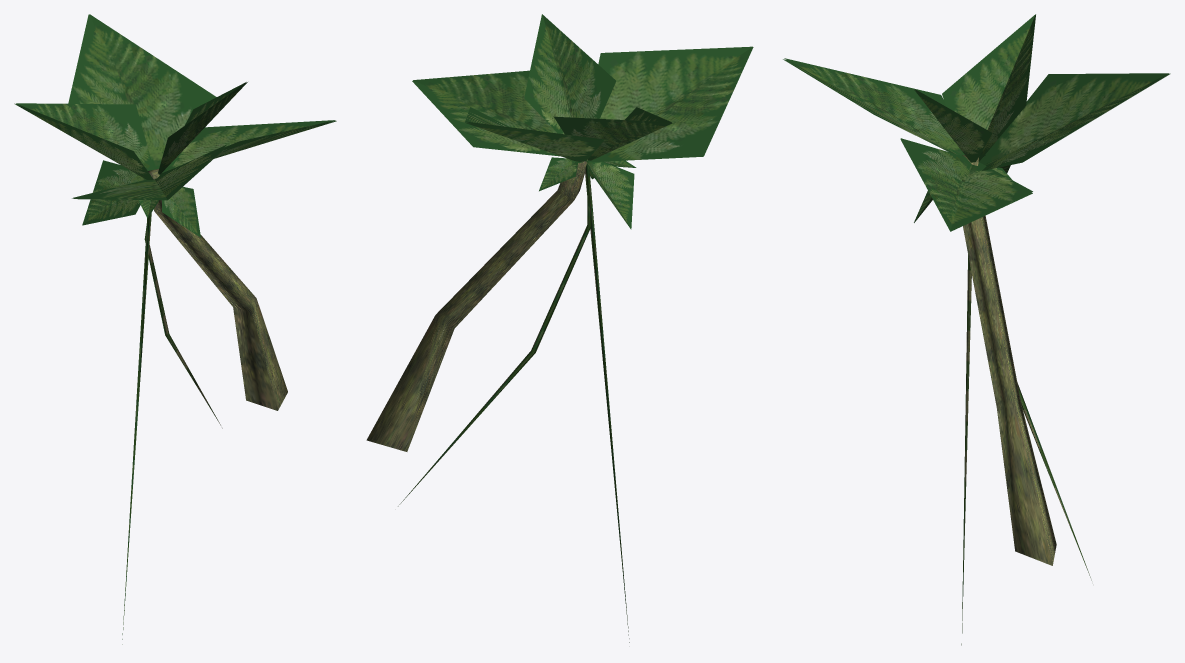
The model's file is fern_ferntree_vines_l2.fbx.
3 views of the same model, side by side, from view 1: azimuth 30°, elevation 25°; view 2: azimuth 150°, elevation 25°; view 3: azimuth 270°, elevation 25° (orthographic). The views are drawn at different scales.
Visible parts, largest first — view 1: mesh_node; view 2: mesh_node; view 3: mesh_node.
Boxes of the visible parts, box(x1,y1,x2,y2) form: mesh_node: box(14, 14, 336, 644); mesh_node: box(366, 14, 753, 642); mesh_node: box(783, 14, 1170, 645).
Size of the model in its own units: 2.63 by 4.92 by 2.82.
2 materials, 2 textured.
